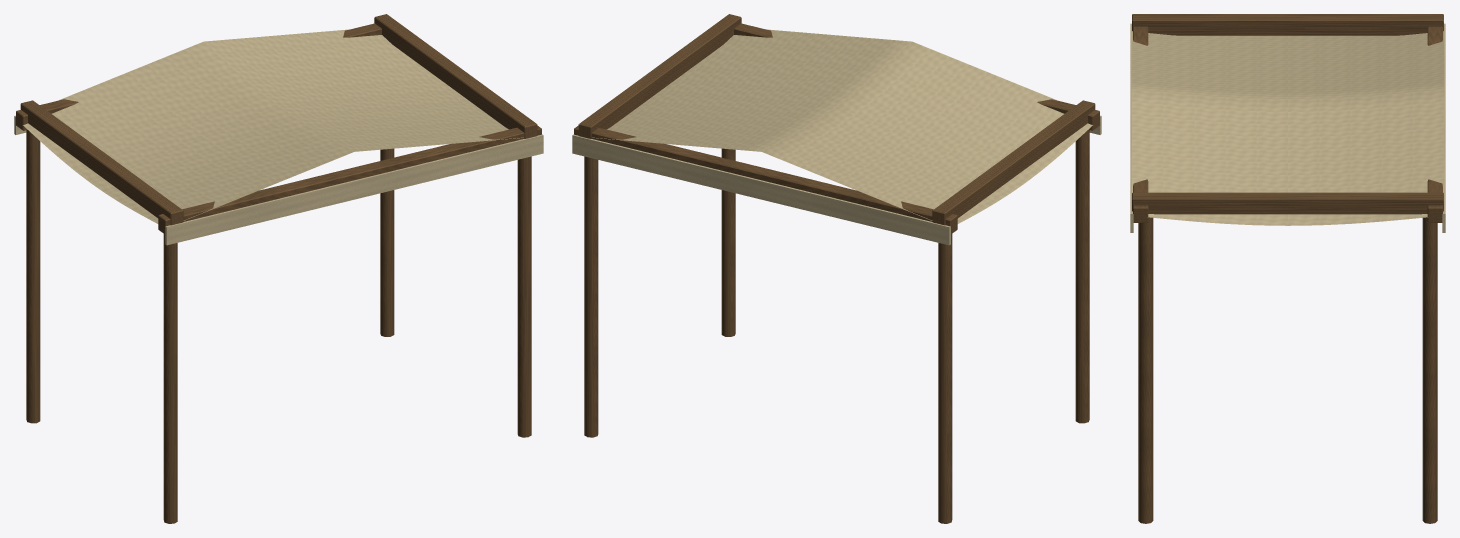
The model's file is market-awning.glb.
3 renders of one model, left to right at view 1: azimuth 30°, elevation 25°; view 2: azimuth 150°, elevation 25°; view 3: azimuth 270°, elevation 25°, orthographic. The views are drawn at different scales.
Visible parts, largest first — view 1: market-awning; view 2: market-awning; view 3: market-awning.
Part boxes in pixels (x1=…): market-awning: x1=14, y1=14, x2=543, y2=523; market-awning: x1=572, y1=14, x2=1101, y2=523; market-awning: x1=1130, y1=14, x2=1445, y2=523.
Size of the model in its own units: 2.6 by 2.18 by 1.82.
Materials: 1 (1 with a texture image).
